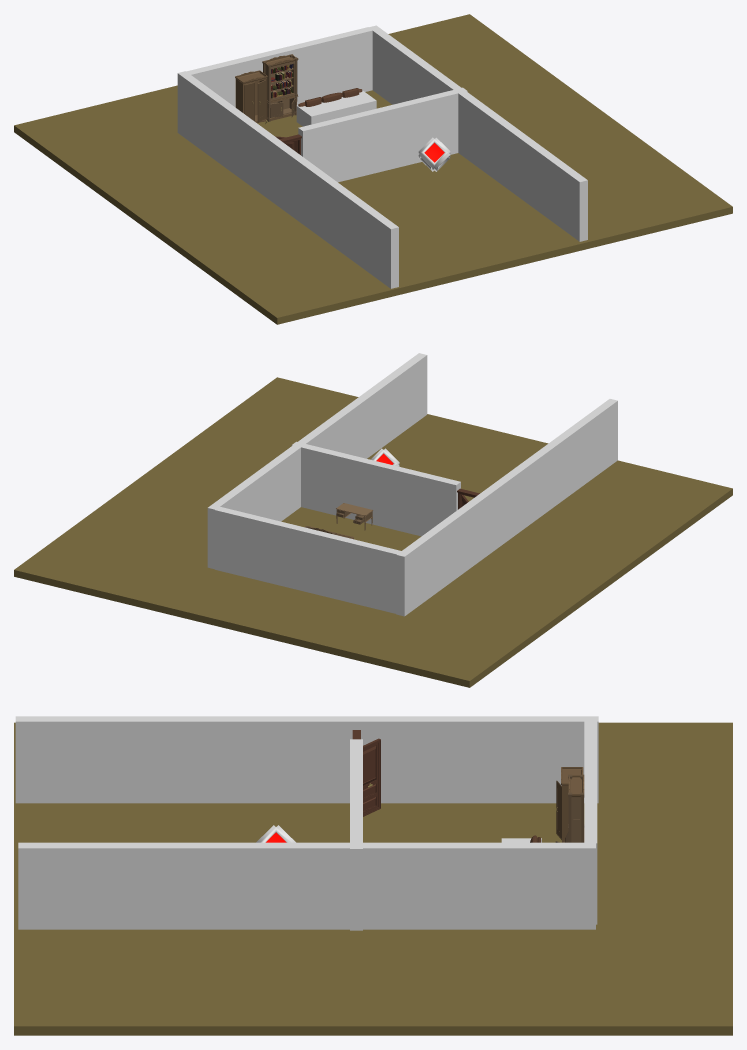
The model's file is World.glb.
The picture shows the model from 3 angles, top to bottom: view 1: azimuth 30°, elevation 25°; view 2: azimuth 150°, elevation 25°; view 3: azimuth 270°, elevation 25°; orthographic projection. The views are drawn at different scales.
Parts seen in each view (by area): view 1: Plane, Wall, Wall.001, Wall.003, Wall.002, BookCase_Single.001, Cube.001, Closet.001, Cube; view 2: Plane, Wall, Wall.002, Wall.001, Wall.003; view 3: Plane, Wall.001, Wall, Wall.003, Wall.002, Door.001, BookCase_Single.001, Closet.001.
Part boxes in pixels (x1,y1,x2,y2): Plane: (14, 14, 732, 324); Wall: (177, 71, 398, 288); Wall.001: (368, 25, 587, 241); Wall.003: (298, 87, 467, 182); Wall.002: (186, 27, 372, 107); BookCase_Single.001: (262, 54, 298, 121); Cube.001: (296, 90, 376, 126); Closet.001: (235, 70, 267, 124); Cube: (418, 137, 450, 171); Plane: (14, 377, 732, 687); Wall: (396, 399, 617, 616); Wall.002: (214, 506, 402, 613); Wall.001: (207, 353, 427, 568); Wall.003: (291, 441, 460, 536); Plane: (14, 722, 732, 1035); Wall.001: (18, 842, 595, 929); Wall: (15, 716, 598, 803); Wall.003: (350, 739, 362, 930); Wall.002: (584, 721, 597, 924); Door.001: (363, 738, 380, 816); BookCase_Single.001: (568, 774, 584, 842); Closet.001: (561, 767, 583, 842).
Size of the model in its own units: 27.97 by 3.94 by 27.97.
